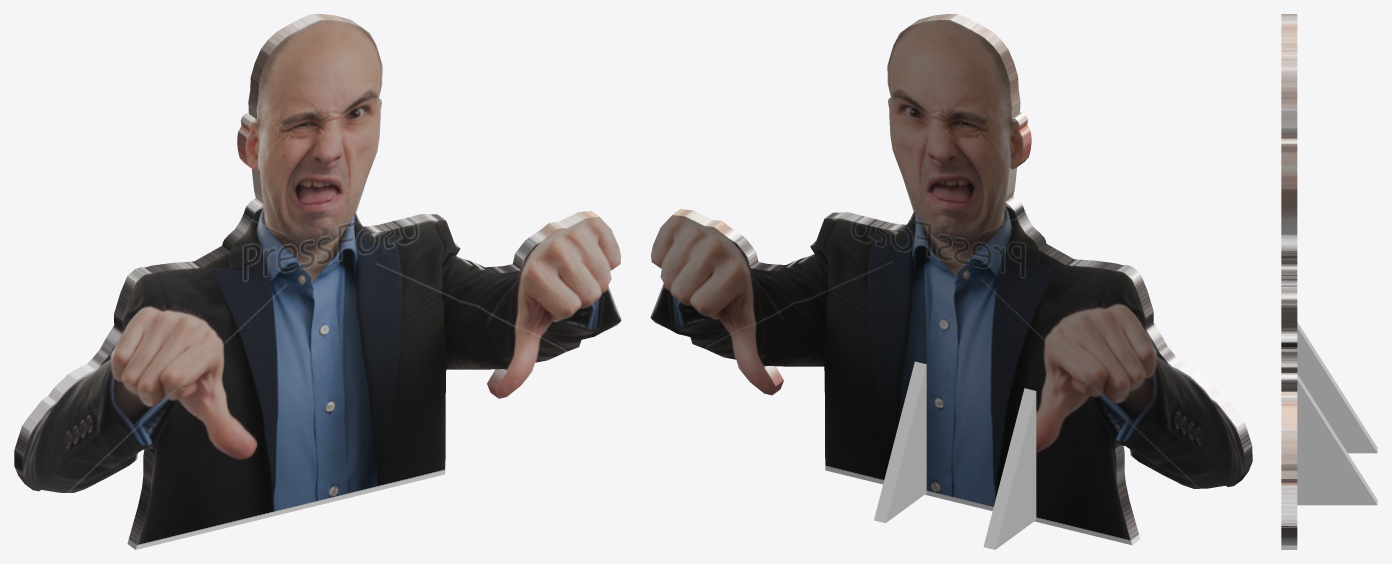
The model's file is client.fbx.
3 renders of one model, left to right at view 1: azimuth 30°, elevation 25°; view 2: azimuth 150°, elevation 25°; view 3: azimuth 270°, elevation 25°, orthographic. The views are drawn at different scales.
Parts seen in each view (by area): view 1: Cube; view 2: Cube, Cube.002, Cube.001; view 3: Cube, Cube.001, Cube.002.
Boxes of the visible parts, x1=… form: Cube: x1=14, y1=14, x2=621, y2=549; Cube: x1=650, y1=14, x2=1252, y2=544; Cube.002: x1=983, y1=388, x2=1036, y2=549; Cube.001: x1=874, y1=361, x2=926, y2=522; Cube: x1=1281, y1=14, x2=1297, y2=549; Cube.001: x1=1297, y1=374, x2=1377, y2=505; Cube.002: x1=1297, y1=322, x2=1377, y2=453.
Size of the model in its own units: 710 by 549 by 102.
Materials: 1 (1 with a texture image).
